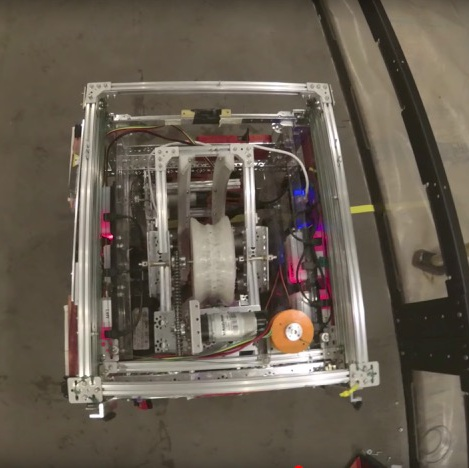robot: (60, 75, 386, 423)
